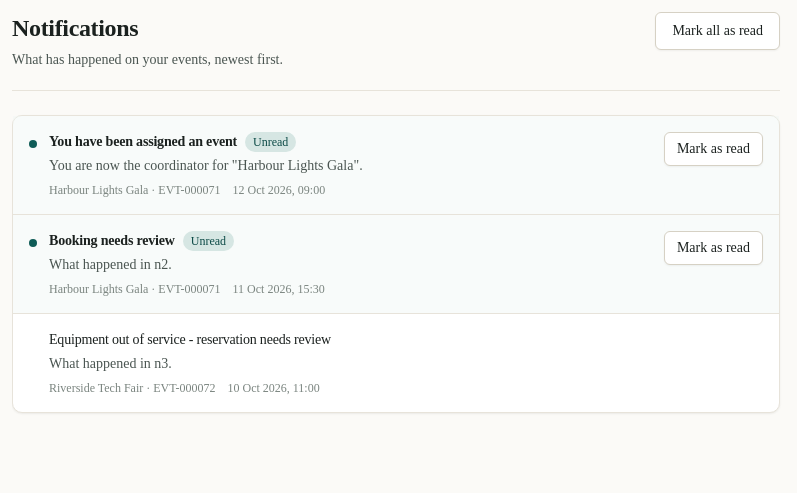
Test: Notifications page (SPM-71) › marking as read › [SPM-71][AC4] says so when marking all fails, and leaves them unread
Click the button "Mark all as read": [718, 31] box [655,12,780,50]
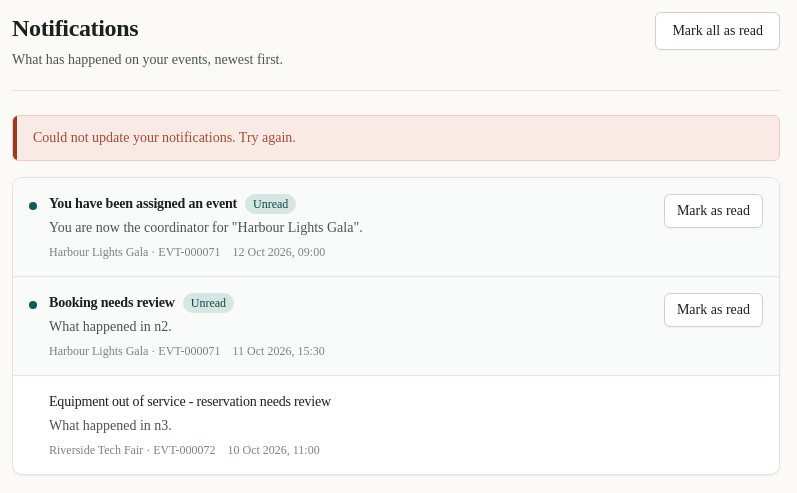
Expected: the text "Unread" is shown 2 times, [245,194,296,214]; [183,293,234,313]
Now the message reads "Could not update your notifications. Try again.", box [33,130,296,145]
